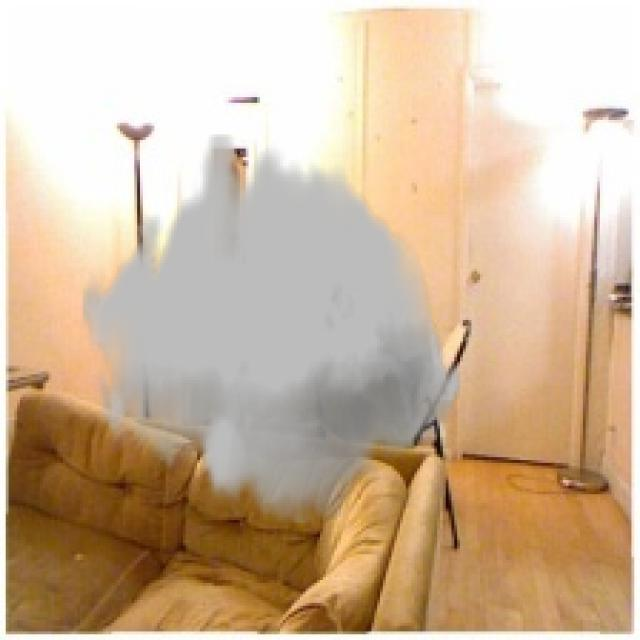smoke: (80, 134, 463, 523)
